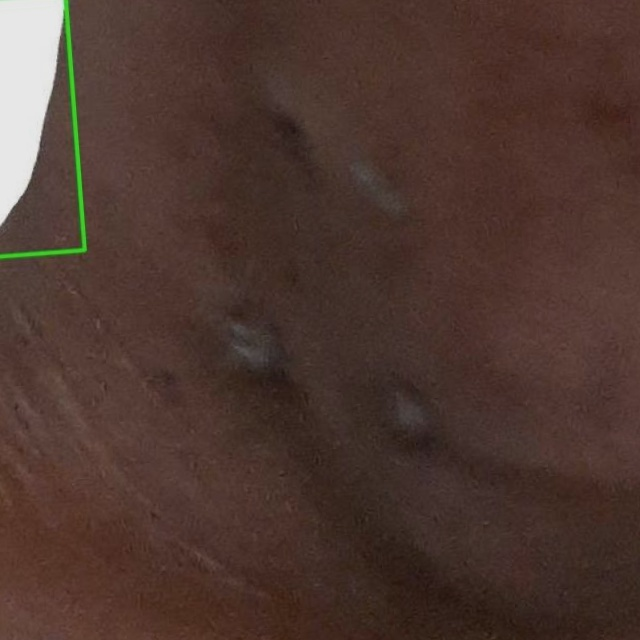Contact Dermatitis: (0, 0, 84, 256)
